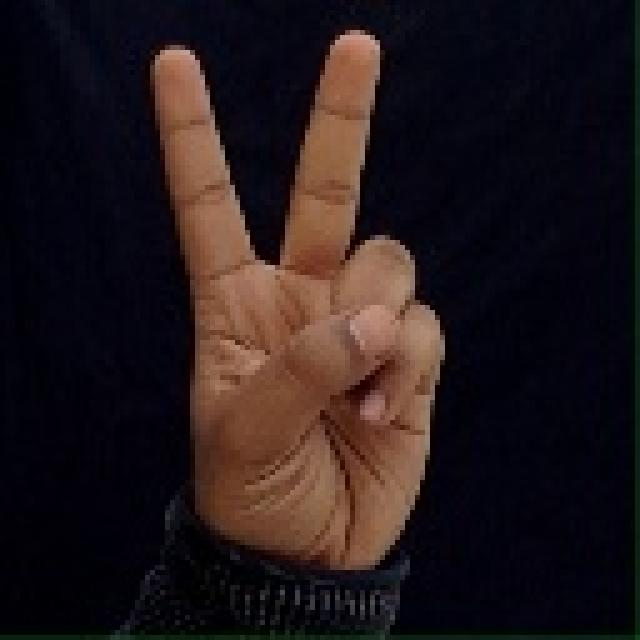Numeric-2: (150, 22, 452, 578)
